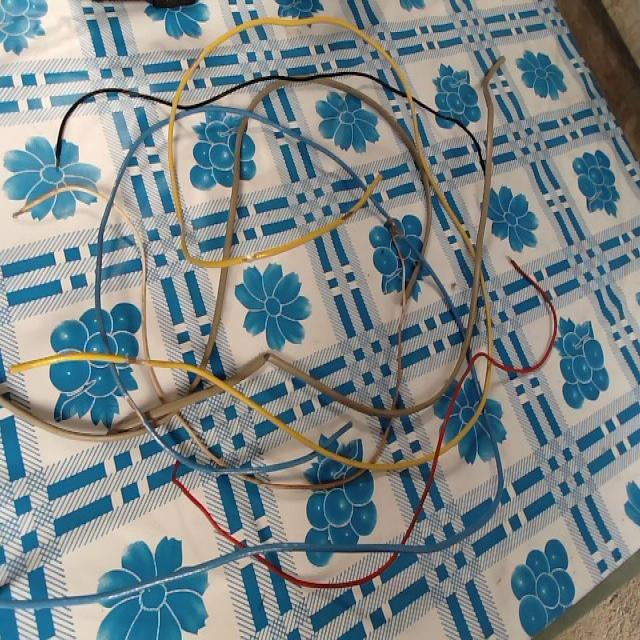-: (120, 391, 153, 433), (121, 349, 154, 367), (385, 215, 404, 242), (259, 346, 276, 371), (50, 151, 68, 173), (240, 248, 261, 264), (337, 206, 356, 222), (10, 204, 23, 220)
